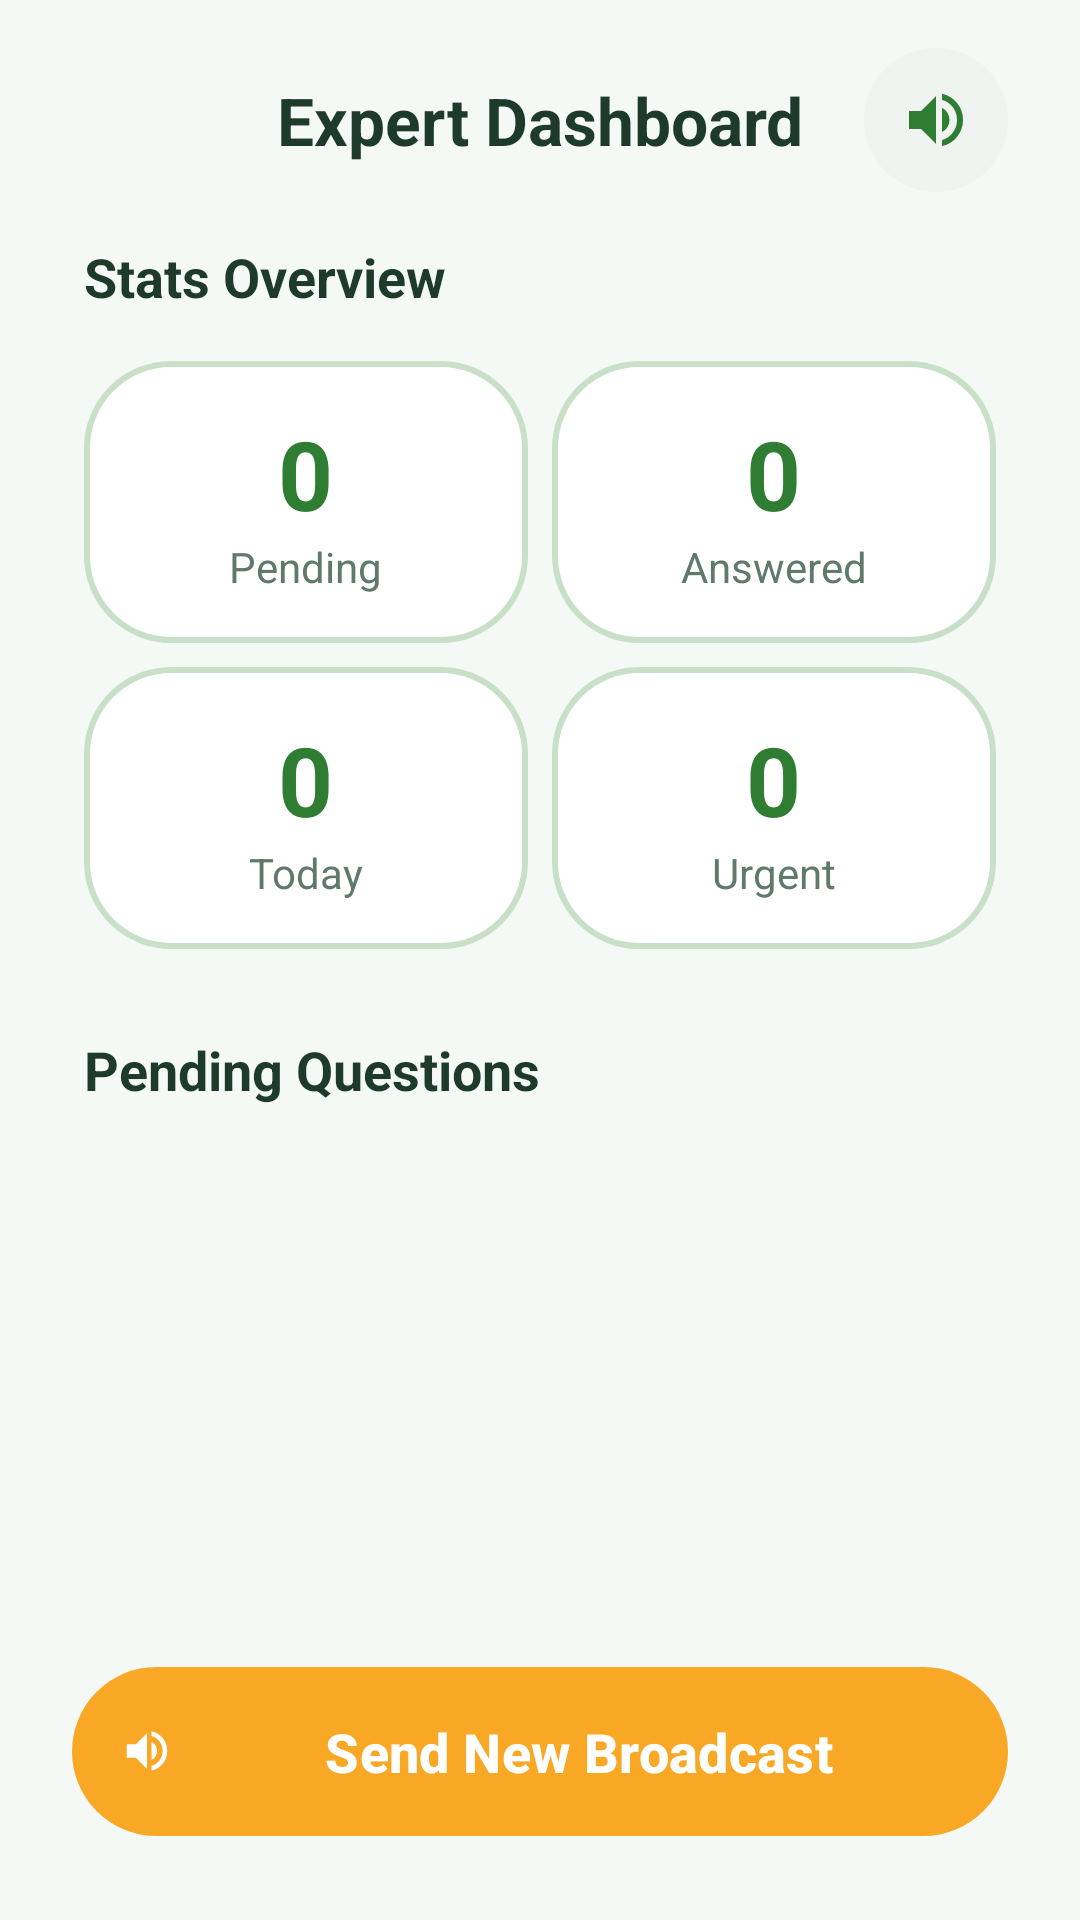

Screen size 1080x1920. Icon name, then its box in pixels as [x1=x1, y1=y1, x2=x2, y2=y2]:
volume up: [x1=909, y1=93, x2=963, y2=146]
